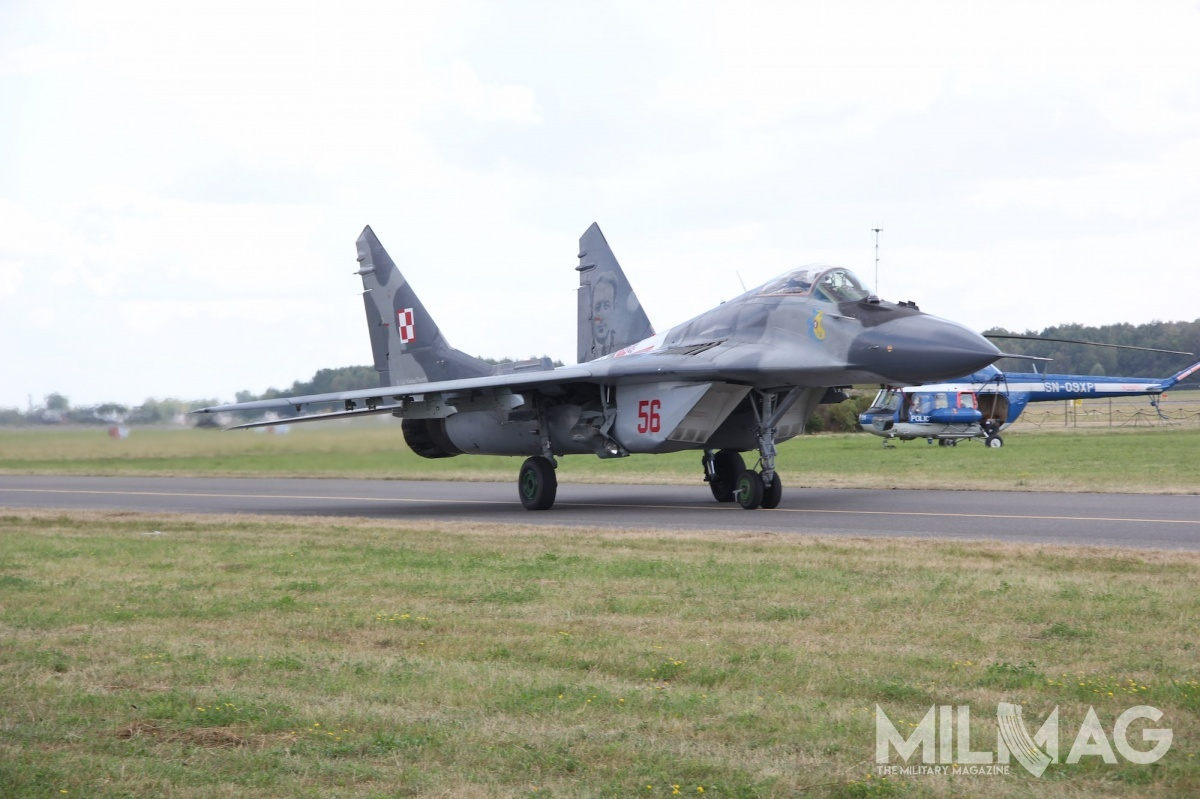Mig-29: (229, 155, 1085, 517)
